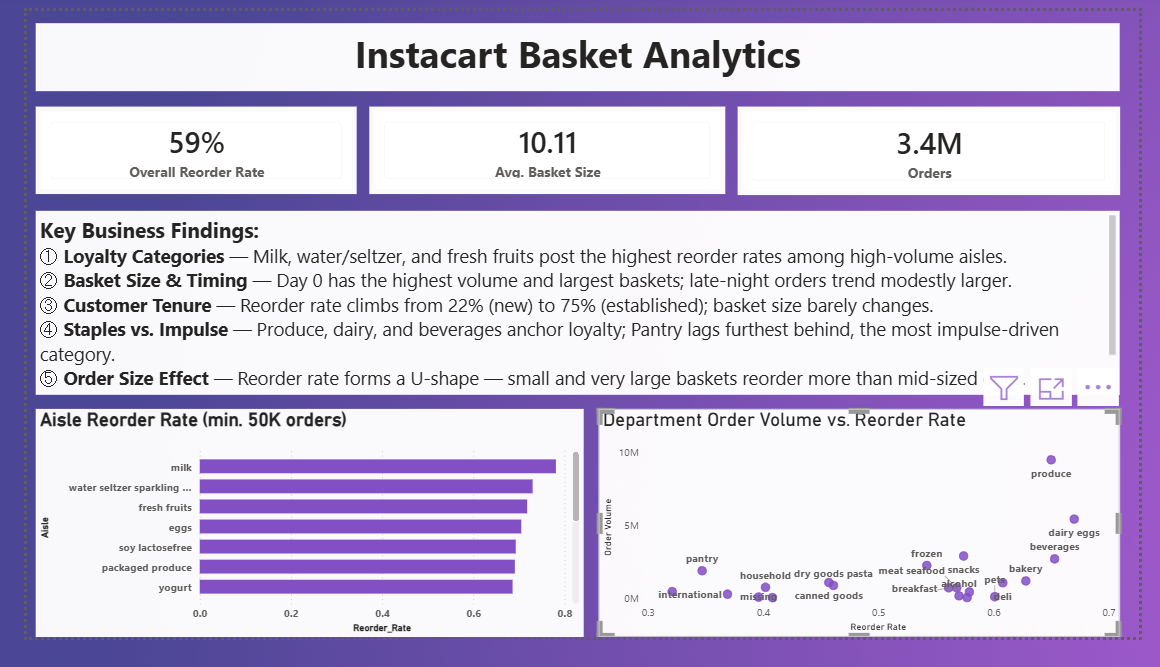

The dashboard page shown, as its layout file describes it:
{"tool":"powerbi","page":{"name":"Overview","canvas":[1280,720],"ordinal":0},"visuals":[{"type":"cardVisual","fields":{"Data":["Min(kpi_summary.Value)"]},"box":[9.5,110.5,369.6,101],"z":0},{"type":"cardVisual","fields":{"Data":["Min(kpi_summary.Value)"]},"box":[394.4,110.5,409.6,101],"z":1000},{"type":"cardVisual","fields":{"Data":["Min(kpi_summary.Value)"]},"box":[817.3,110.5,449.6,101],"z":2000},{"type":"textbox","box":[9.5,13.3,1247.9,78.1],"z":3000},{"type":"textbox","box":[9.5,230.5,1257.4,211.5],"z":4000},{"type":"clusteredBarChart","title":"Aisle Reorder Rate (min. 50K orders)","fields":{"Category":["q1_aisle_reorder.aisle"],"Y":["Avg(q1_aisle_reorder.reorder_rate)"]},"box":[9.5,457.2,630.6,262.9],"z":5000},{"type":"scatterChart","title":"Department Order Volume vs. Reorder Rate","fields":{"Category":["q4_department_reorder.department"],"X":["Avg(q4_department_reorder.reorder_rate)"],"Y":["Avg(q4_department_reorder.total_order_items)"]},"box":[657.3,457.2,609.6,262.9],"z":6000}]}

Visuals, with their boxes in screenshot pixels (x1, y1, x2, y2), scaled from the page's 1280x720 canvas onto the 1160x667 screenshot:
cardVisual - Min(kpi_summary.Value): [9,102,344,196]
cardVisual - Min(kpi_summary.Value): [357,102,729,196]
cardVisual - Min(kpi_summary.Value): [741,102,1148,196]
textbox: [9,12,1140,85]
textbox: [9,214,1148,409]
"Aisle Reorder Rate (min. 50K orders)" clusteredBarChart: [9,424,580,666]
"Department Order Volume vs. Reorder Rate" scatterChart: [596,424,1148,666]
